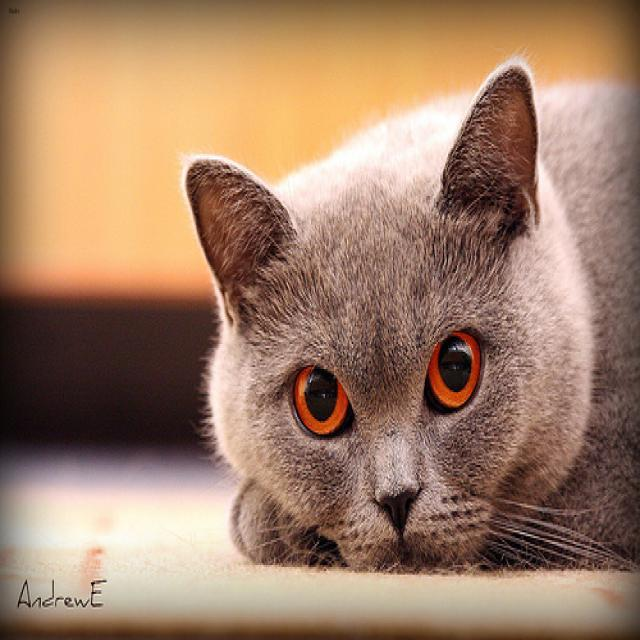British_Shorthair: (179, 56, 586, 568)
